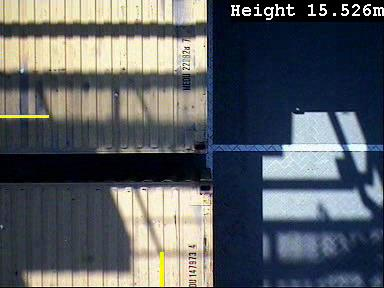groundmarker_2: (41, 184, 151, 252)
